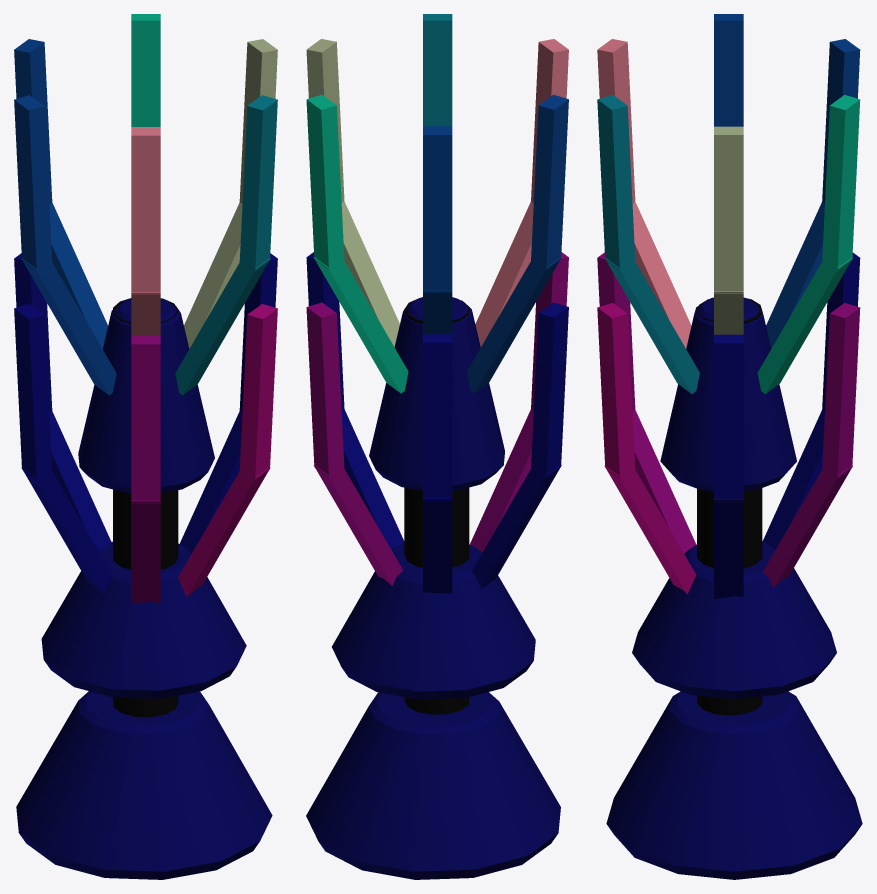
The model's file is aerial.fbx.
3 renders of one model, left to right at view 1: azimuth 30°, elevation 25°; view 2: azimuth 150°, elevation 25°; view 3: azimuth 270°, elevation 25°, orthographic.
Parts seen in each view (by area): view 1: obj1.006; view 2: obj1.006; view 3: obj1.006.
Part boxes in pixels (bbox=[...]): obj1.006: bbox=[14, 14, 277, 879]; obj1.006: bbox=[306, 14, 568, 879]; obj1.006: bbox=[597, 14, 862, 879].
Bounding box in the file's own units: 132 × 388 × 123.
